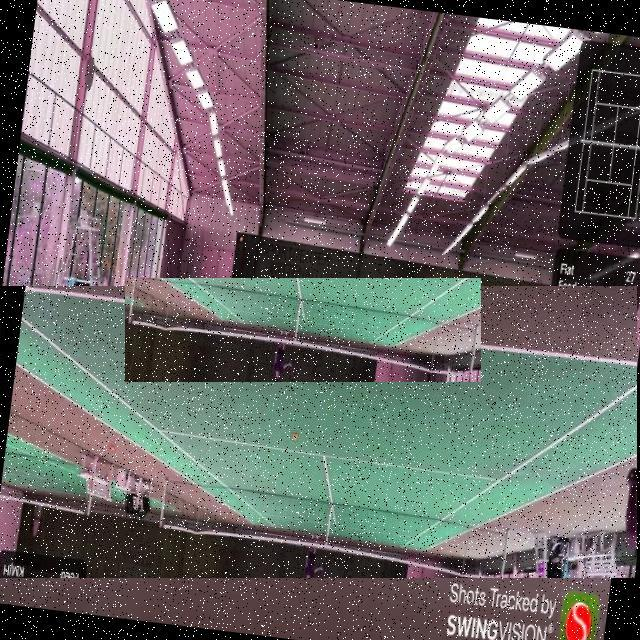court: (0, 286, 637, 578)
net: (125, 278, 481, 382)
